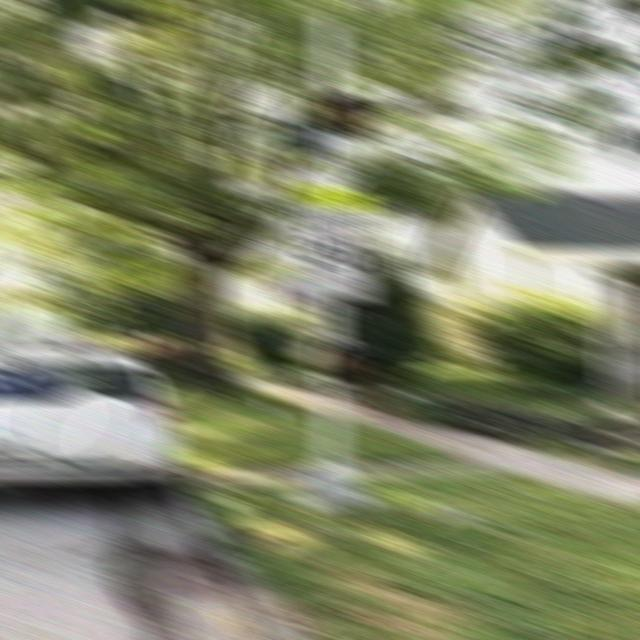speedLimit20: (292, 202, 374, 275)
